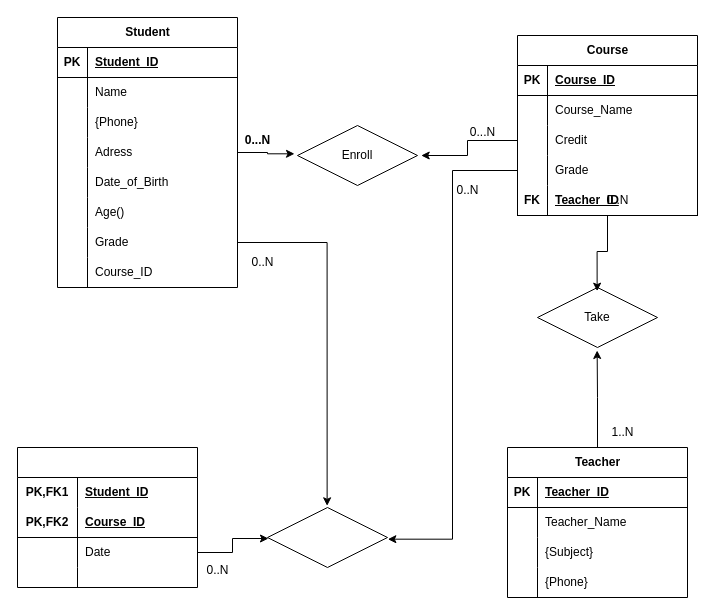
The diagram is 715 pixels wide and 615 high, and some of its shapes have lost their labels. The box of each missing label's shape, as (x1, y1, x2, y2) in pixels:
Attendence: (16, 446, 198, 588)
Present: (266, 506, 388, 568)
